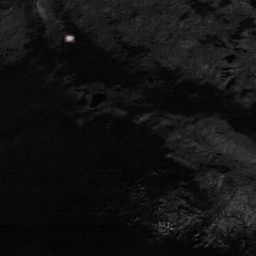Target: (65, 35, 73, 42)
